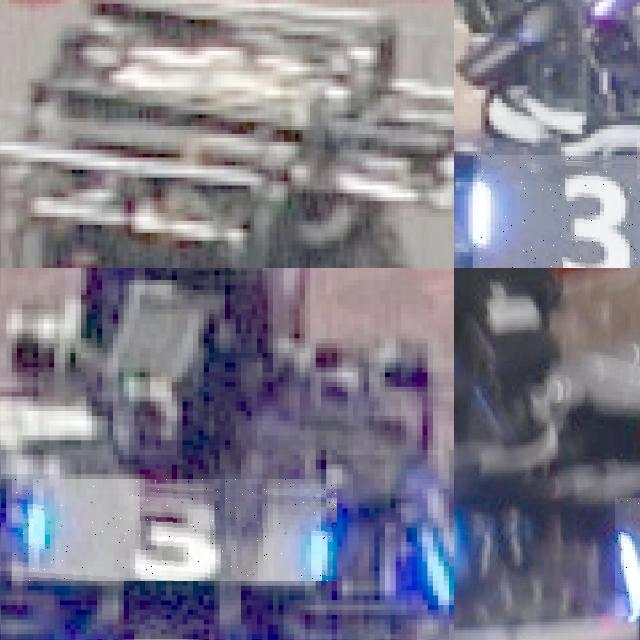B3: (12, 479, 337, 581), (472, 155, 640, 268)
B4: (614, 498, 640, 616)
